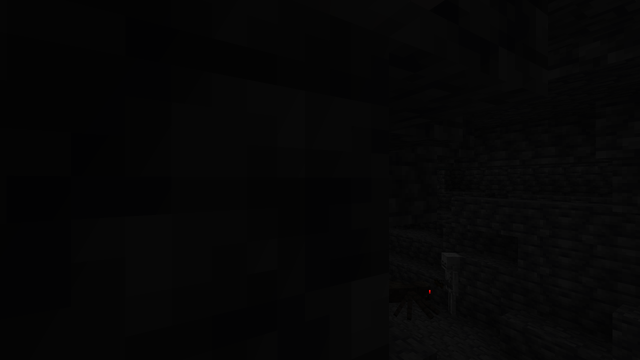araignees: (394, 272, 437, 320)
squelettes: (438, 251, 464, 317)
